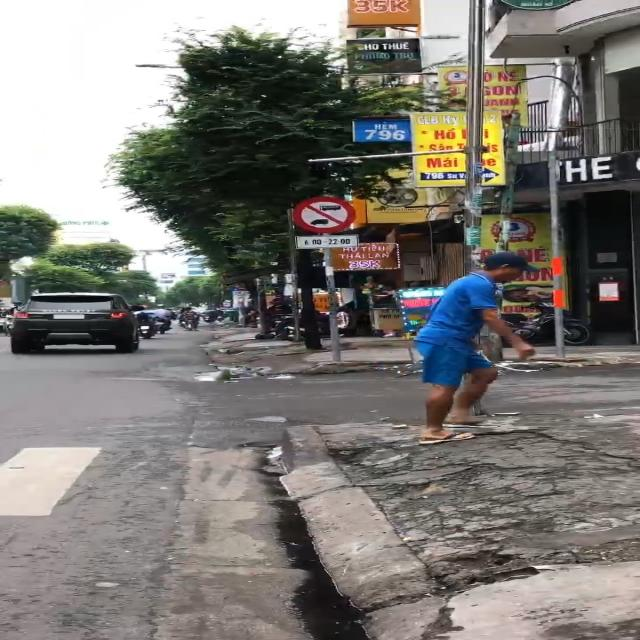Bien bao cam xe oto khach va xe oto tai: (287, 190, 359, 233)
